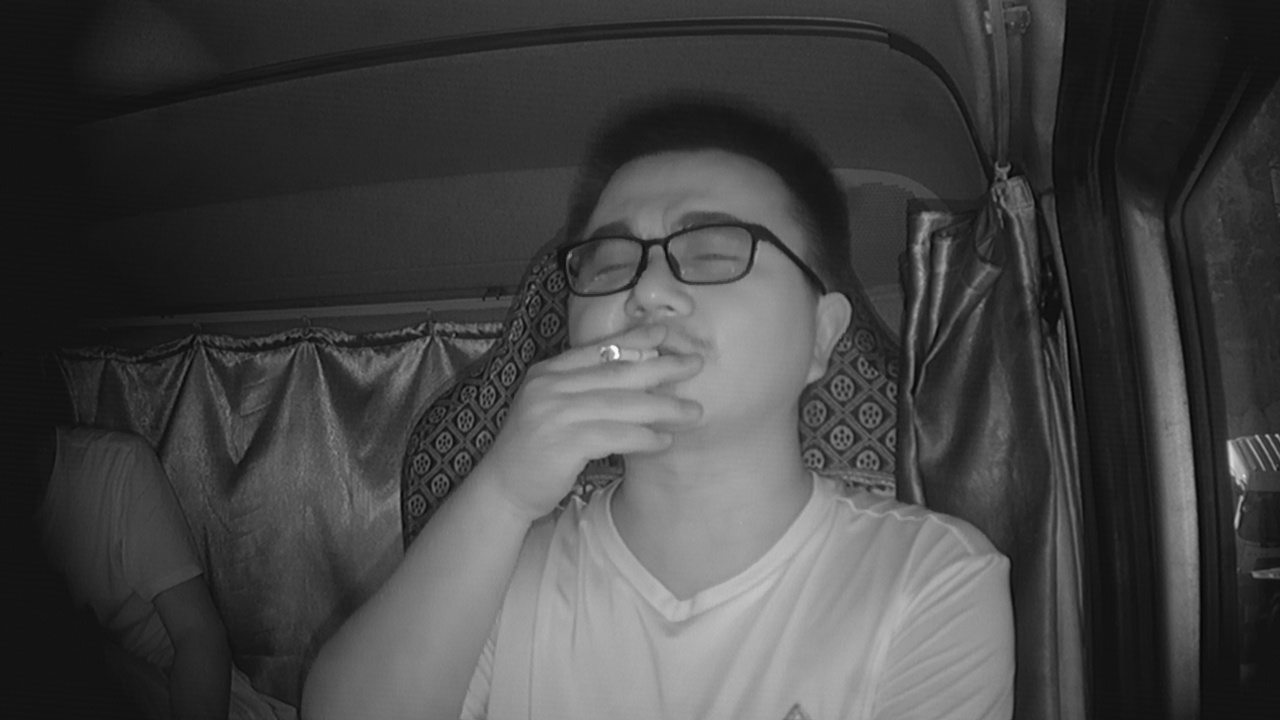hand: (517, 324, 709, 483)
